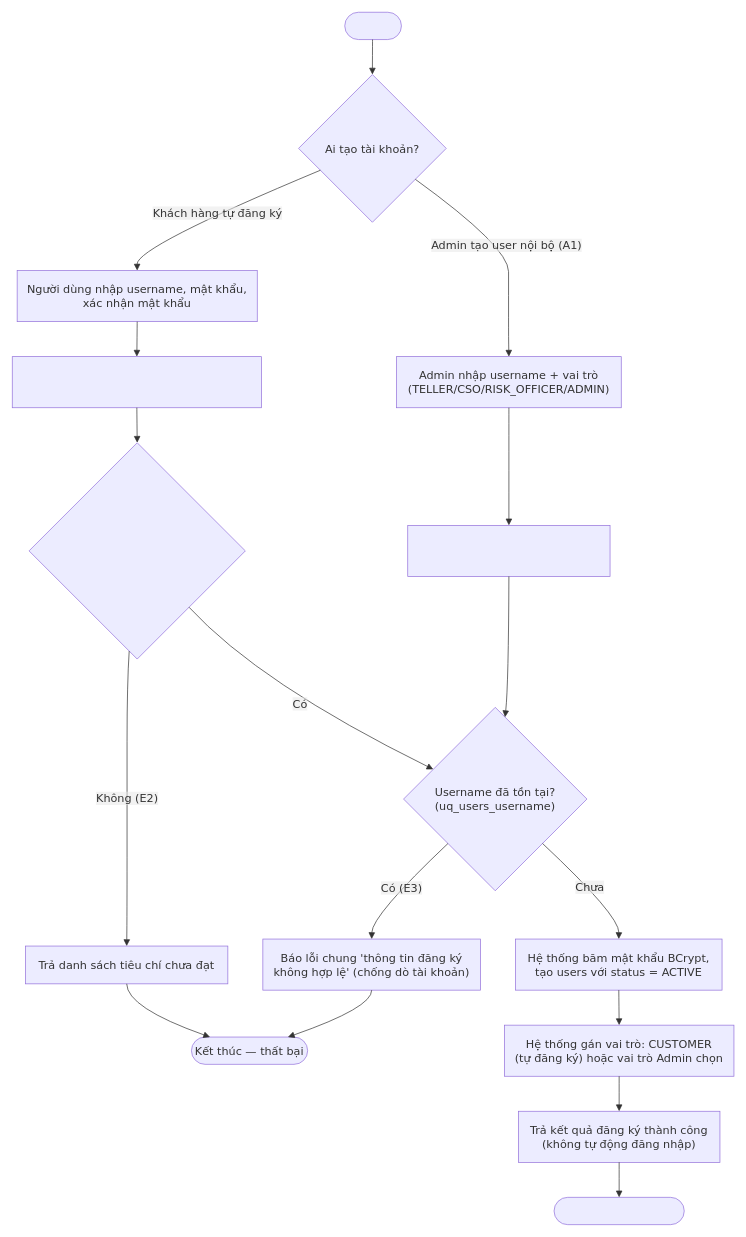
This 746x1237 diagram has some shape labels left out. Each missing label, with the centre of its shape:
"Bắt đầu" belongs at point 372,26.
"Hệ thống sinh mật khẩu tạm (buộc đổi ở lần đăng nhập đầu)" belongs at point 508,550.
"Hệ thống validate: username 3-100 ký tự (chữ, số, dấu chấm, gạch dưới)" belongs at point 136,382.
"Kết thúc — thành công" belongs at point 618,1211.
"Mật khẩu đạt chính sách? (BR-AUTH-01-2)" belongs at point 136,550.
